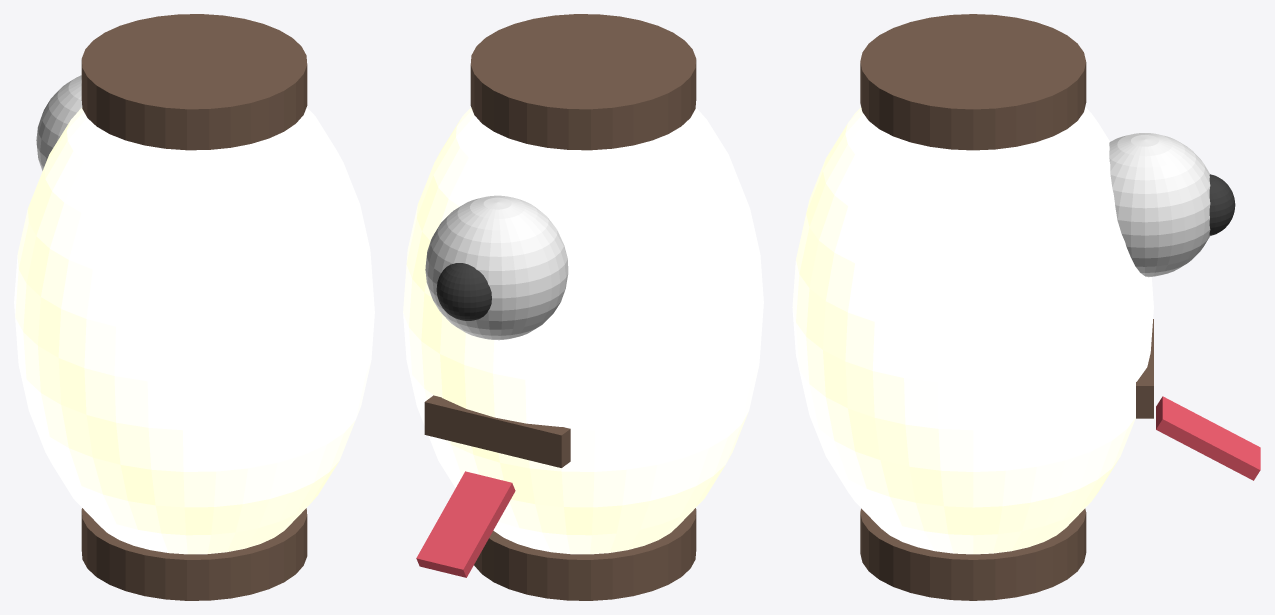
File: enemy_lantern.glb
The picture shows the model from 3 angles, left to right: view 1: azimuth 30°, elevation 25°; view 2: azimuth 150°, elevation 25°; view 3: azimuth 270°, elevation 25°; orthographic projection.
Parts seen in each view (by area): view 1: Sphere, Cylinder.001, Cylinder, Sphere.001; view 2: Sphere, Cylinder.001, Sphere.001, Cylinder, Cube.001, Cube, Sphere.002; view 3: Sphere, Cylinder.001, Sphere.001, Cylinder, Cube.001, Sphere.002, Cube.
Part boxes in pixels (<box>): Sphere: <box>14,107,374,554</box>; Cylinder.001: <box>81,14,307,150</box>; Cylinder: <box>81,508,307,600</box>; Sphere.001: <box>36,75,82,170</box>; Sphere: <box>403,107,763,554</box>; Cylinder.001: <box>470,14,696,150</box>; Sphere.001: <box>425,195,568,340</box>; Cylinder: <box>474,508,696,600</box>; Cube.001: <box>416,471,515,577</box>; Cube: <box>424,395,570,467</box>; Sphere.002: <box>436,263,491,320</box>; Sphere: <box>792,107,1153,554</box>; Cylinder.001: <box>860,14,1086,150</box>; Sphere.001: <box>1109,133,1210,277</box>; Cylinder: <box>860,508,1086,600</box>; Cube.001: <box>1156,396,1260,480</box>; Sphere.002: <box>1209,174,1235,235</box>; Cube: <box>1136,319,1153,418</box>.
Size of the model in its own units: 0.8 by 1.2 by 1.04.
